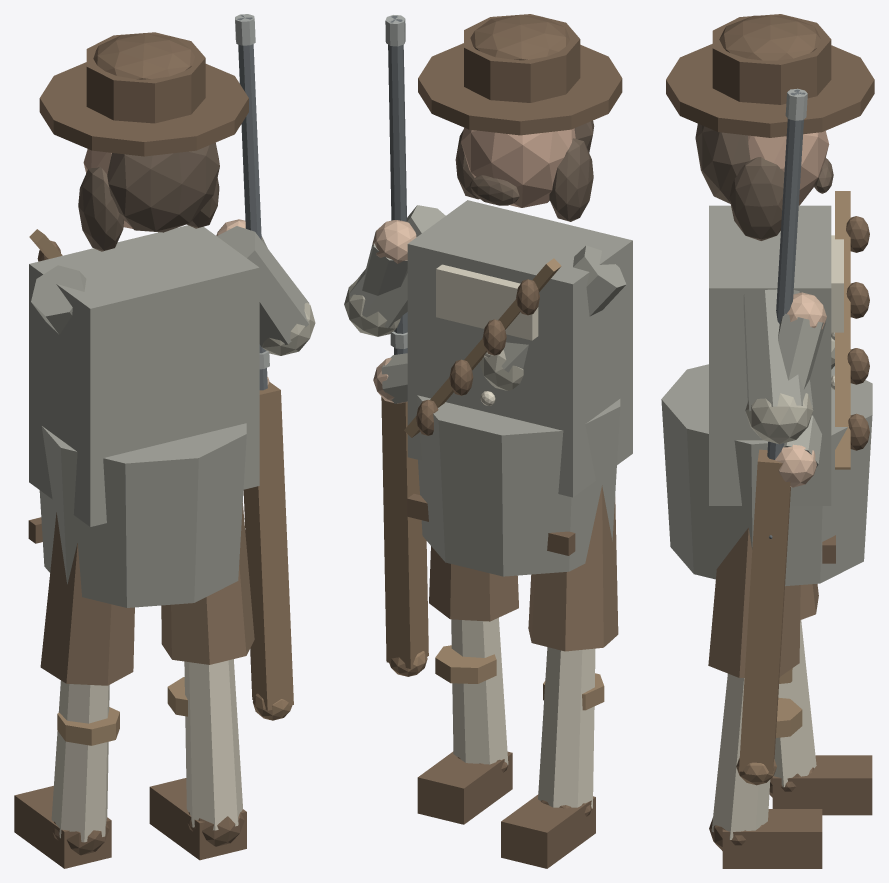
File: cameronian_hodden_musket_ready.glb
3 renders of one model, left to right at view 1: azimuth 30°, elevation 25°; view 2: azimuth 150°, elevation 25°; view 3: azimuth 270°, elevation 25°, orthographic. The views are drawn at different scales.
Parts seen in each view (by area): view 1: hodden, leather, linen, brown, wood, hair, iron, leather_lt, hodden_lt, steel; view 2: hodden, leather, linen, brown, wood, skin, hair, leather_lt, iron, hodden_lt, skin_light, steel; view 3: hodden, leather, wood, linen, hair, brown, leather_lt, iron, hodden_lt, skin, skin_light, steel.
Part boxes in pixels (box(x1,y1,x2,y2)): hodden: box(29, 225, 309, 607); leather: box(14, 32, 248, 868); linen: box(51, 659, 242, 842); brown: box(40, 503, 254, 685); wood: box(243, 382, 293, 720); hair: box(78, 142, 219, 251); iron: box(237, 15, 267, 390); leather_lt: box(29, 229, 187, 745); hodden_lt: box(262, 302, 315, 355); steel: box(235, 14, 269, 369); hodden: box(349, 200, 632, 576); leather: box(407, 14, 622, 868); linen: box(436, 264, 595, 808); brown: box(429, 485, 618, 651); wood: box(381, 397, 428, 676); skin: box(461, 127, 575, 207); hair: box(455, 120, 594, 221); leather_lt: box(404, 258, 604, 710); iron: box(388, 16, 407, 354); hodden_lt: box(344, 276, 523, 390); skin_light: box(372, 220, 416, 403); steel: box(385, 15, 407, 348); hodden: box(661, 205, 872, 586); leather: box(666, 14, 874, 868); wood: box(736, 449, 790, 785); linen: box(711, 235, 843, 839); hair: box(695, 123, 833, 240); brown: box(708, 528, 818, 677); leather_lt: box(776, 191, 850, 737); iron: box(767, 89, 805, 538); hodden_lt: box(745, 337, 834, 444); skin: box(748, 131, 829, 205); skin_light: box(775, 292, 826, 487); steel: box(785, 88, 807, 120).
Size of the model in its own units: 0.6271 by 1.74 by 0.4183.
